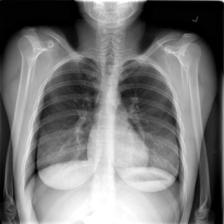normal: (19, 51, 188, 224)
